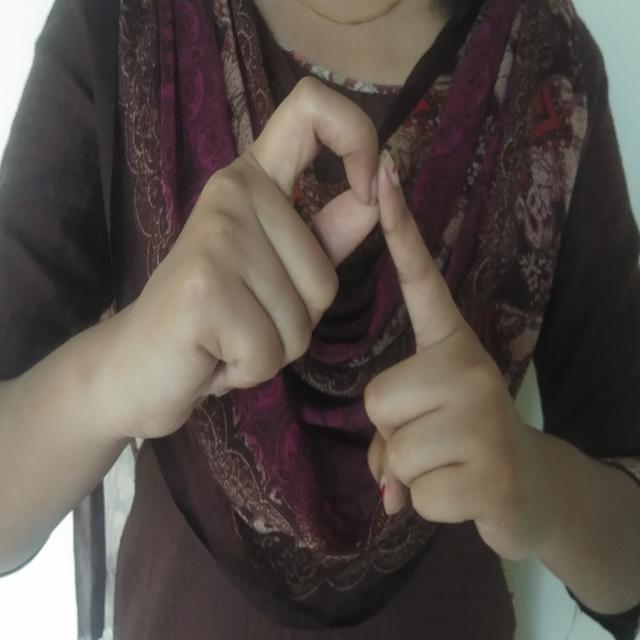P: (116, 67, 550, 576)
